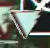Give way: (1, 0, 43, 43)
